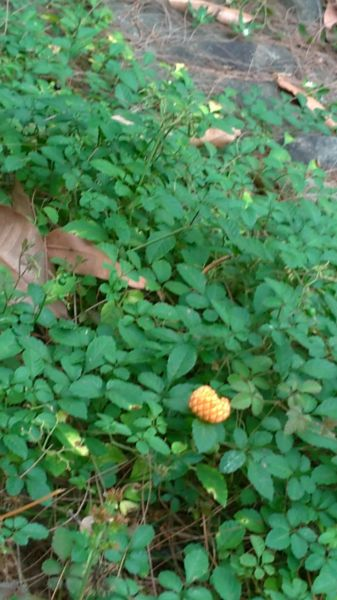eggs: (186, 384, 236, 430)
